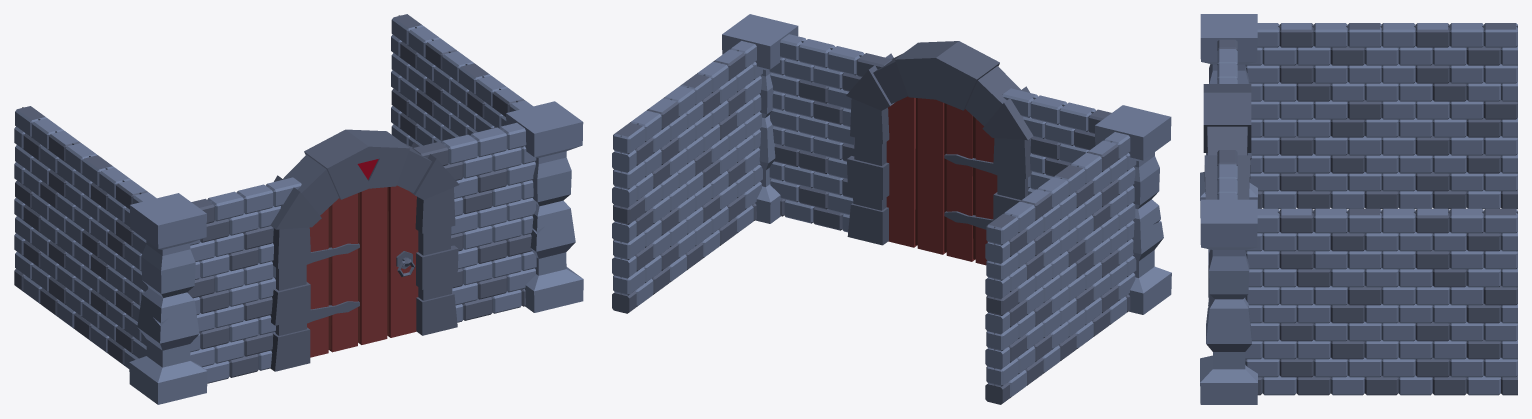
Rendered from Gate.fbx.
3 views of the same model, side by side, from view 1: azimuth 30°, elevation 25°; view 2: azimuth 150°, elevation 25°; view 3: azimuth 270°, elevation 25° (orthographic).
Visible parts, largest first — view 1: Gate.028, Door; view 2: Gate.028, Door; view 3: Gate.028.
Part boxes in pixels (left/top/right/bottom): Gate.028: left=14, top=14, right=583, bottom=404; Door: left=306, top=185, right=418, bottom=357; Gate.028: left=612, top=14, right=1171, bottom=404; Door: left=886, top=96, right=997, bottom=265; Gate.028: left=1200, top=14, right=1517, bottom=404.
Size of the model in its own units: 767 by 354 by 491.
